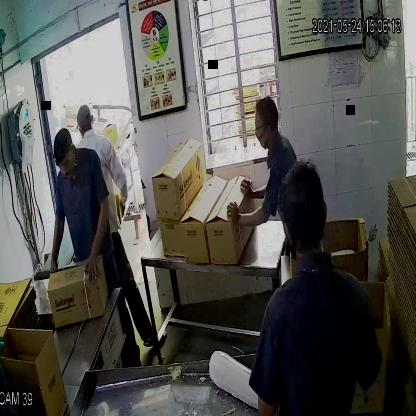goggles: (52, 148, 74, 177)
